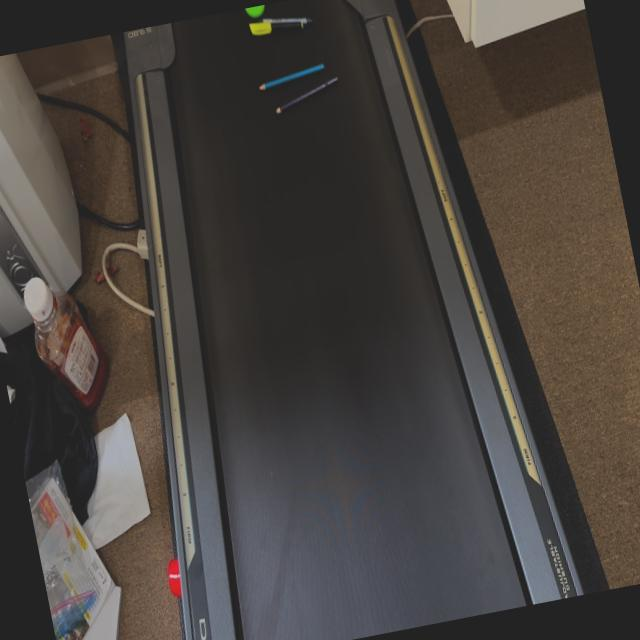Trash: (244, 0, 356, 148)
